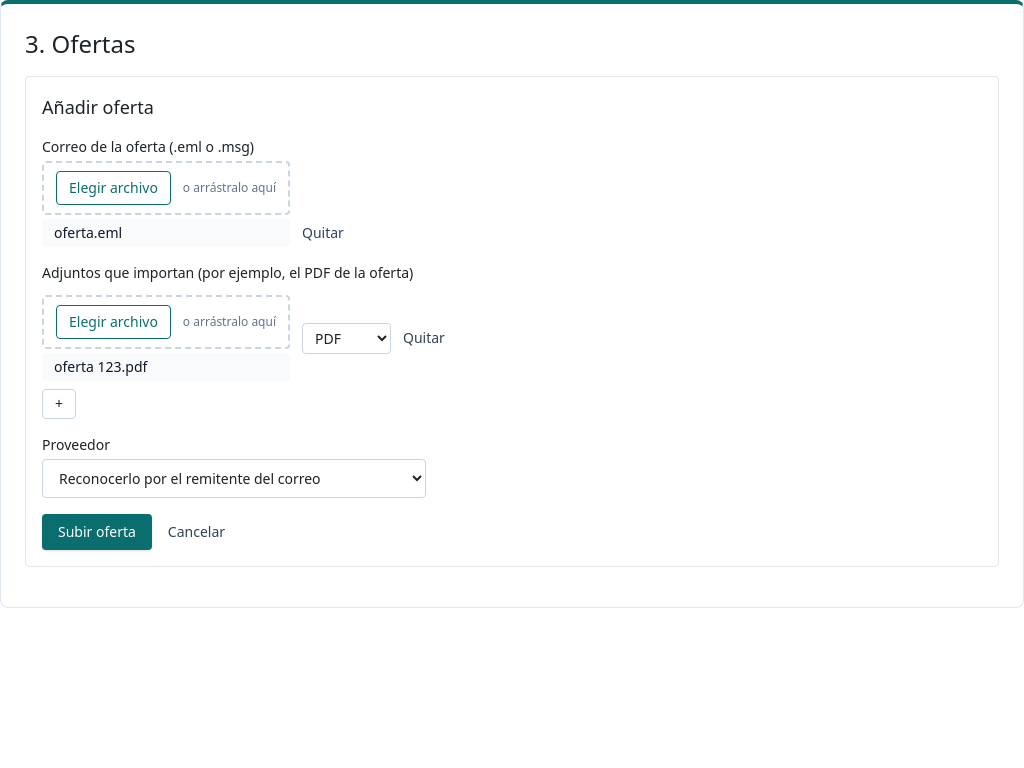
Test: SeccionOfertas › sube una oferta con el correo y un adjunto con su tipo, sin leerla todavía con la IA
The image size is (1024, 768).
Earlier steps of the test are not shown.
Later steps or results of the test are not shown.
Expected: the button "Subir oferta" is enabled, 42,514 -> 152,550
Expected: the dropdown named "Tipo del adjunto 1" shows "PDF", 302,322 -> 391,354
Click the button named "Añadir otro adjunto". click: {"x": 59, "y": 404}
box: 42,389 -> 76,419
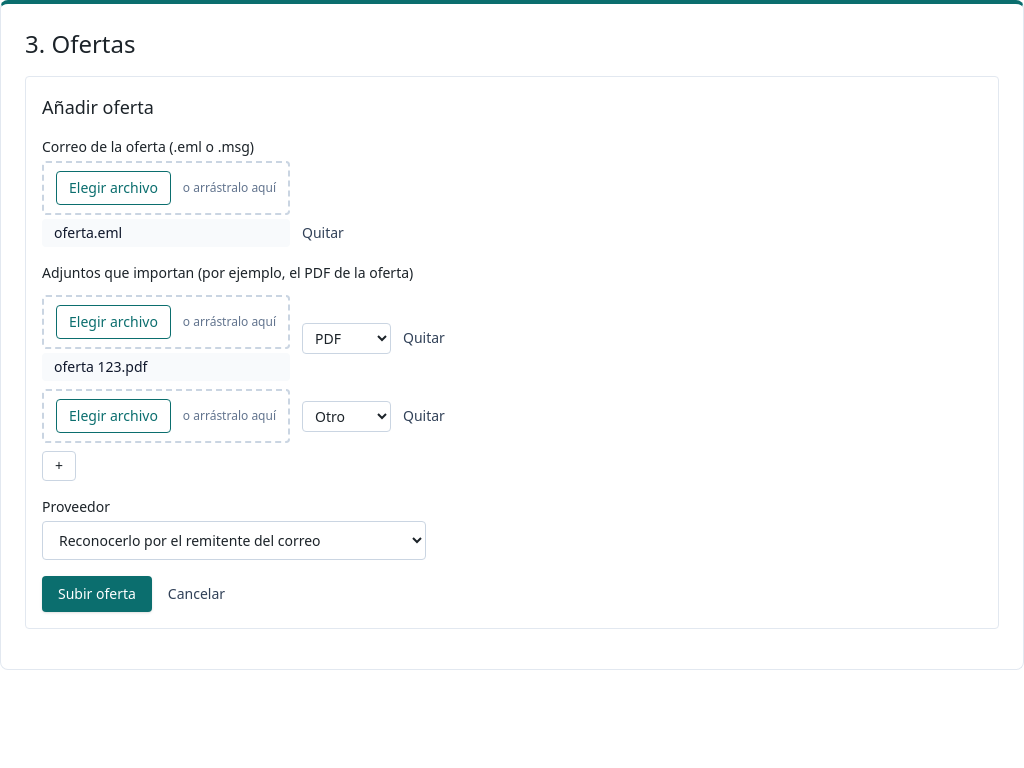
Expected: the element named "Adjunto 2" is shown, 42,389 -> 290,443
Click the button "Subir oferta". click: {"x": 97, "y": 594}
box: 42,576 -> 152,612
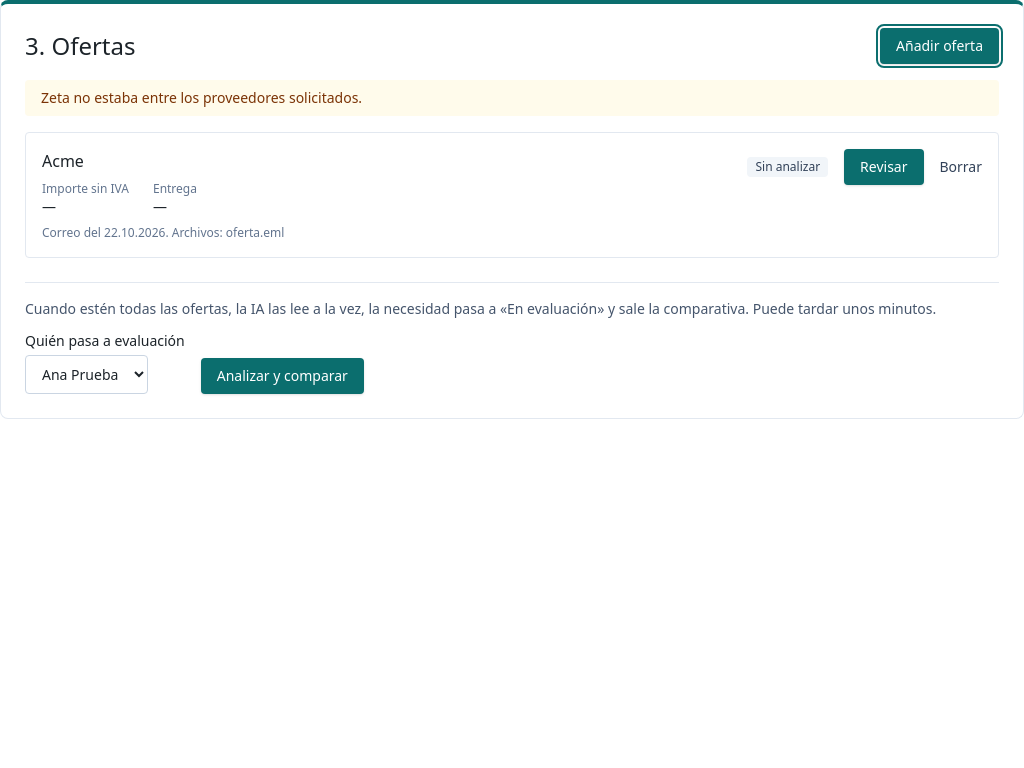
Expected: the message reads "Zeta no estaba entre los proveedores solicitados.", 41,88 -> 362,107
Expected: the text "Sin analizar" is shown, 748,157 -> 828,177
